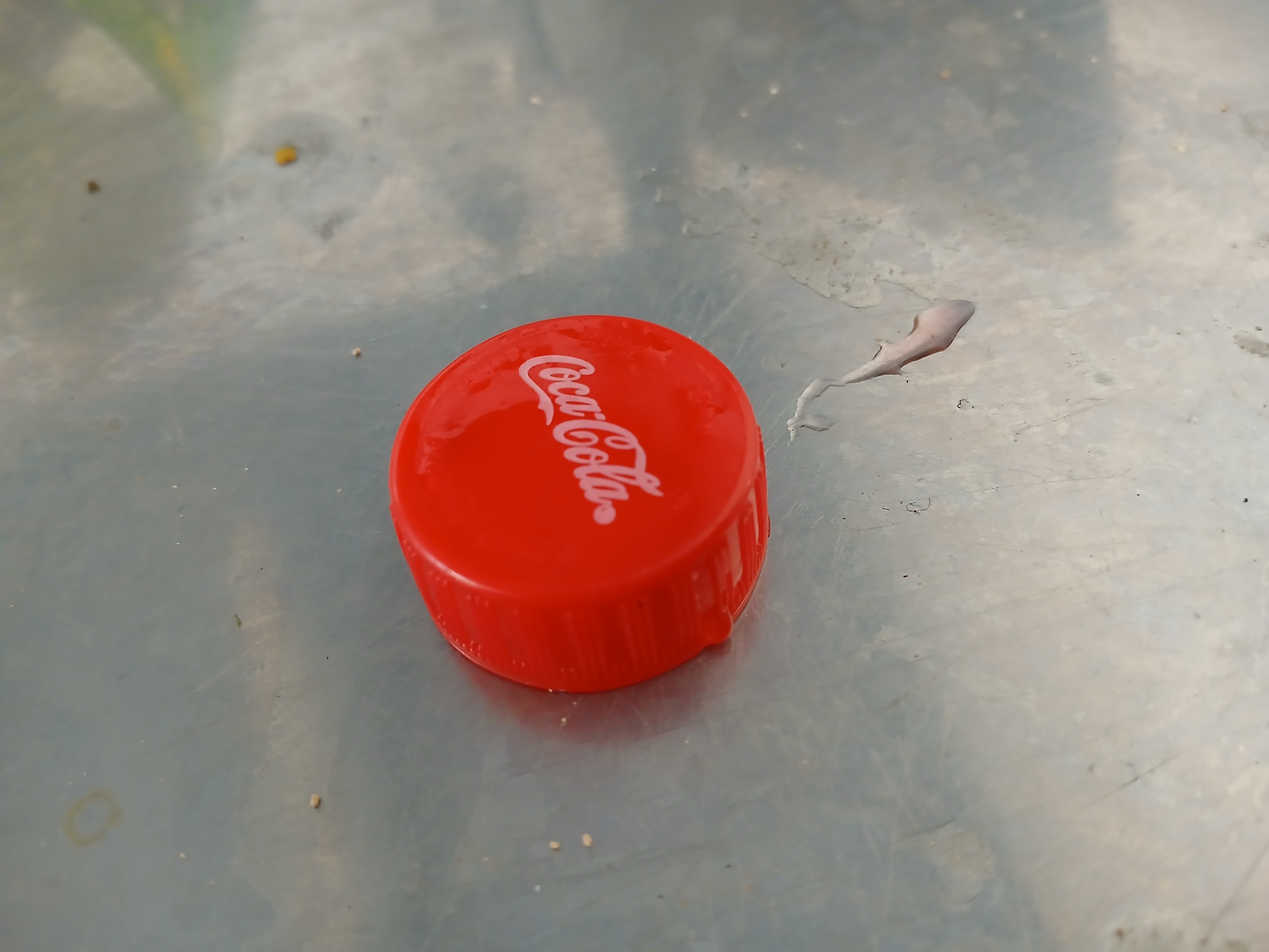Plastico: (386, 317, 769, 696)
